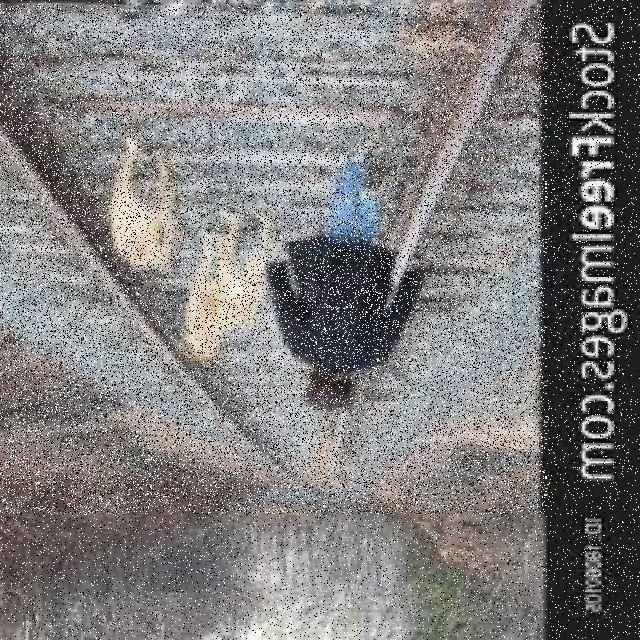rail: (2, 7, 547, 515)
